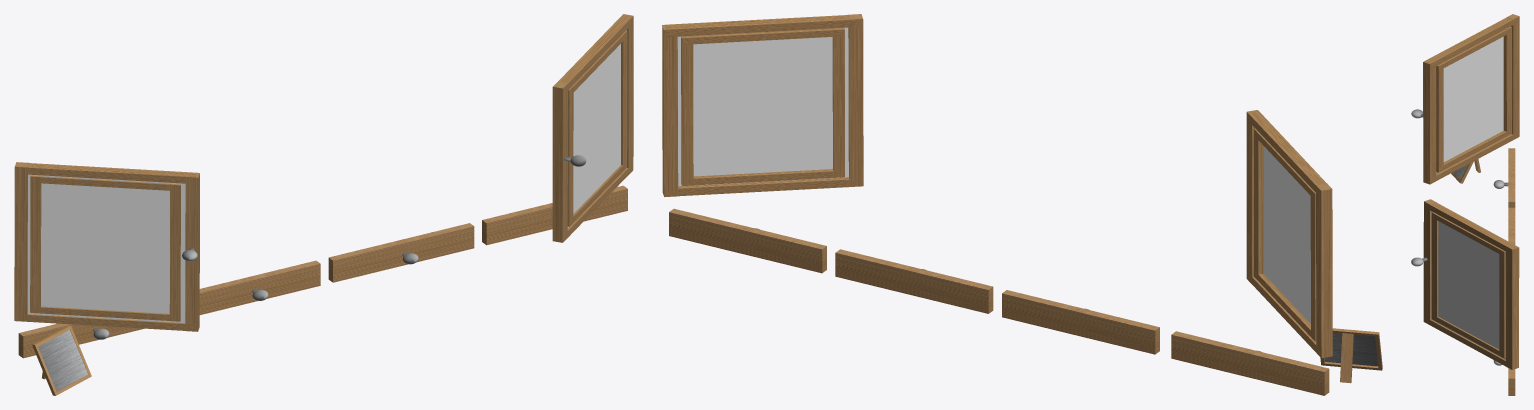
File: Wall Cabinet 1 (Parts).fbx
3 renders of one model, left to right at view 1: azimuth 30°, elevation 25°; view 2: azimuth 150°, elevation 25°; view 3: azimuth 270°, elevation 25°, orthographic. The views are drawn at different scales.
Parts seen in each view (by area): view 1: Door Frame 1 Pane, Door Frame 1, Glass Pane 1, Door Frame 2, Door Frame 1 Inner, Drawer 3, Drawer 2, Drawer 4, Door Frame 2.001, Cube.001, Drawer 1, Cube.006; view 2: Glass Pane 1, Door Frame 2, Door Frame 2.001, Door Frame 1, Door Frame 1 Pane, Drawer 3, Drawer 1, Drawer 4, Drawer 2, Door Frame 1 Inner, Cube.006, Cube.001; view 3: Glass Pane 1, Door Frame 1 Pane, Door Frame 1, Door Frame 2, Door Frame 1 Inner, Door Frame 2.001, Drawer 1, Drawer 2, Drawer 4, Cube.006, Draw Knob 9.
Boxes of the visible parts, x1,y1,x2,y2 form: Door Frame 1 Pane: [27, 174, 185, 322]; Door Frame 1: [14, 162, 199, 331]; Glass Pane 1: [567, 30, 626, 227]; Door Frame 2: [552, 14, 633, 242]; Door Frame 1 Inner: [30, 175, 180, 321]; Drawer 3: [328, 223, 474, 282]; Drawer 2: [199, 260, 320, 314]; Drawer 4: [482, 185, 627, 245]; Door Frame 2.001: [567, 31, 627, 226]; Cube.001: [38, 329, 88, 391]; Drawer 1: [18, 323, 143, 358]; Cube.006: [32, 325, 91, 395]; Glass Pane 1: [677, 27, 848, 186]; Door Frame 2: [662, 14, 863, 196]; Door Frame 2.001: [681, 27, 844, 186]; Door Frame 1: [1246, 110, 1332, 358]; Door Frame 1 Pane: [1263, 146, 1310, 323]; Drawer 3: [835, 249, 993, 313]; Drawer 1: [1171, 331, 1329, 395]; Drawer 4: [669, 208, 826, 273]; Drawer 2: [1002, 290, 1159, 354]; Door Frame 1 Inner: [1254, 128, 1316, 341]; Cube.006: [1320, 328, 1382, 383]; Cube.001: [1324, 333, 1377, 366]; Glass Pane 1: [1431, 211, 1505, 359]; Door Frame 1 Pane: [1436, 36, 1503, 172]; Door Frame 1: [1423, 14, 1519, 184]; Door Frame 2: [1423, 199, 1519, 369]; Door Frame 1 Inner: [1436, 26, 1511, 172]; Door Frame 2.001: [1432, 212, 1505, 358]; Drawer 1: [1508, 148, 1515, 207]; Drawer 2: [1508, 207, 1515, 244]; Drawer 4: [1508, 368, 1515, 395]; Cube.006: [1451, 159, 1480, 183]; Draw Knob 9: [1411, 257, 1427, 266].
Size of the model in its own units: 2.62 by 0.7851 by 0.5004.
30 materials, 30 textured.
